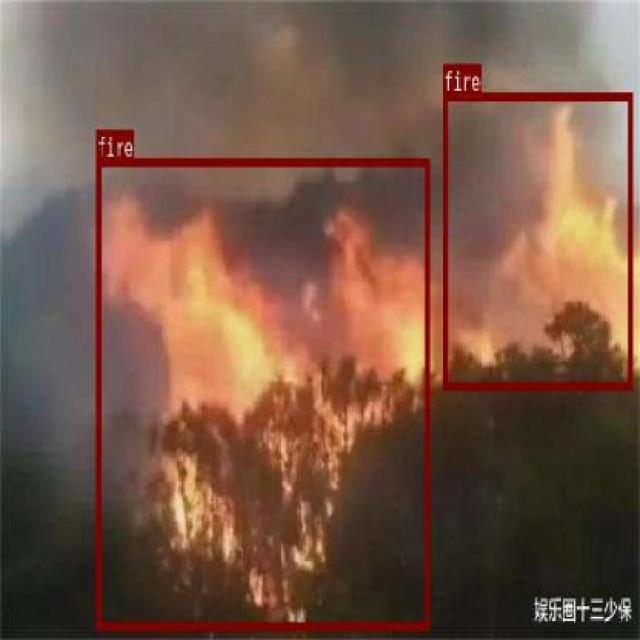fire: (95, 156, 428, 630), (442, 93, 632, 390)
